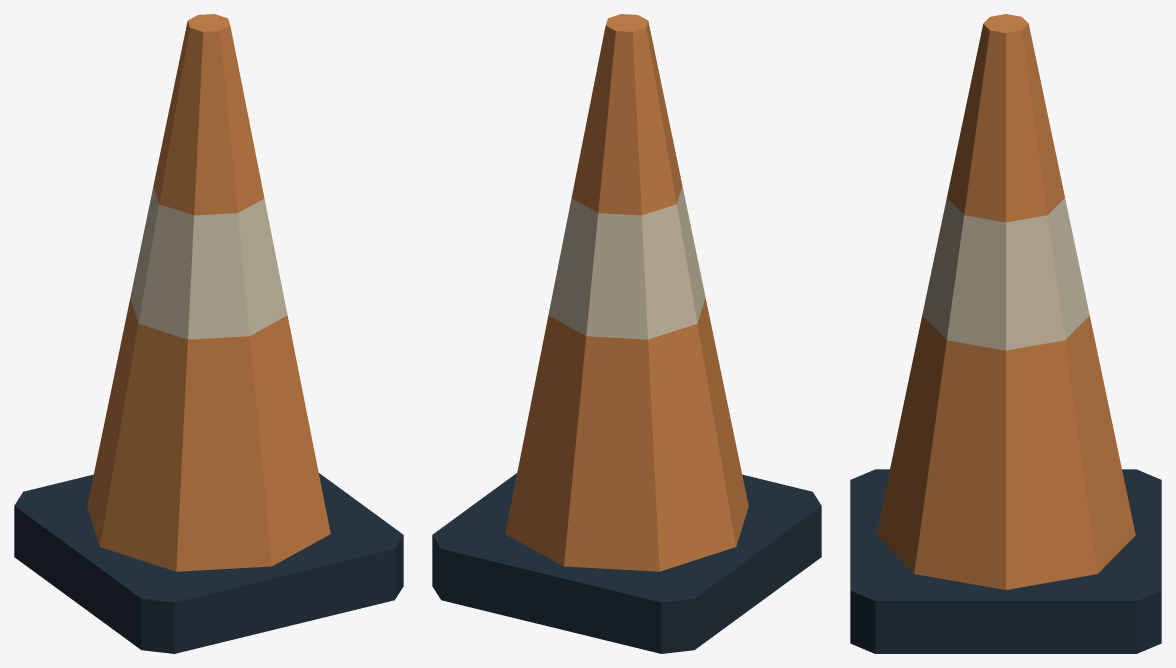
Rendered from cone-tall.glb.
3 views of the same model, side by side, from view 1: azimuth 30°, elevation 25°; view 2: azimuth 150°, elevation 25°; view 3: azimuth 270°, elevation 25° (orthographic). The views are drawn at different scales.
Parts seen in each view (by area): view 1: asset_root; view 2: asset_root; view 3: asset_root.
Part boxes in pixels (x1,y1,x2,y2): asset_root: (14, 14, 403, 653); asset_root: (432, 14, 821, 653); asset_root: (850, 14, 1161, 653).
Size of the model in its own units: 0.48 by 0.96 by 0.48.
